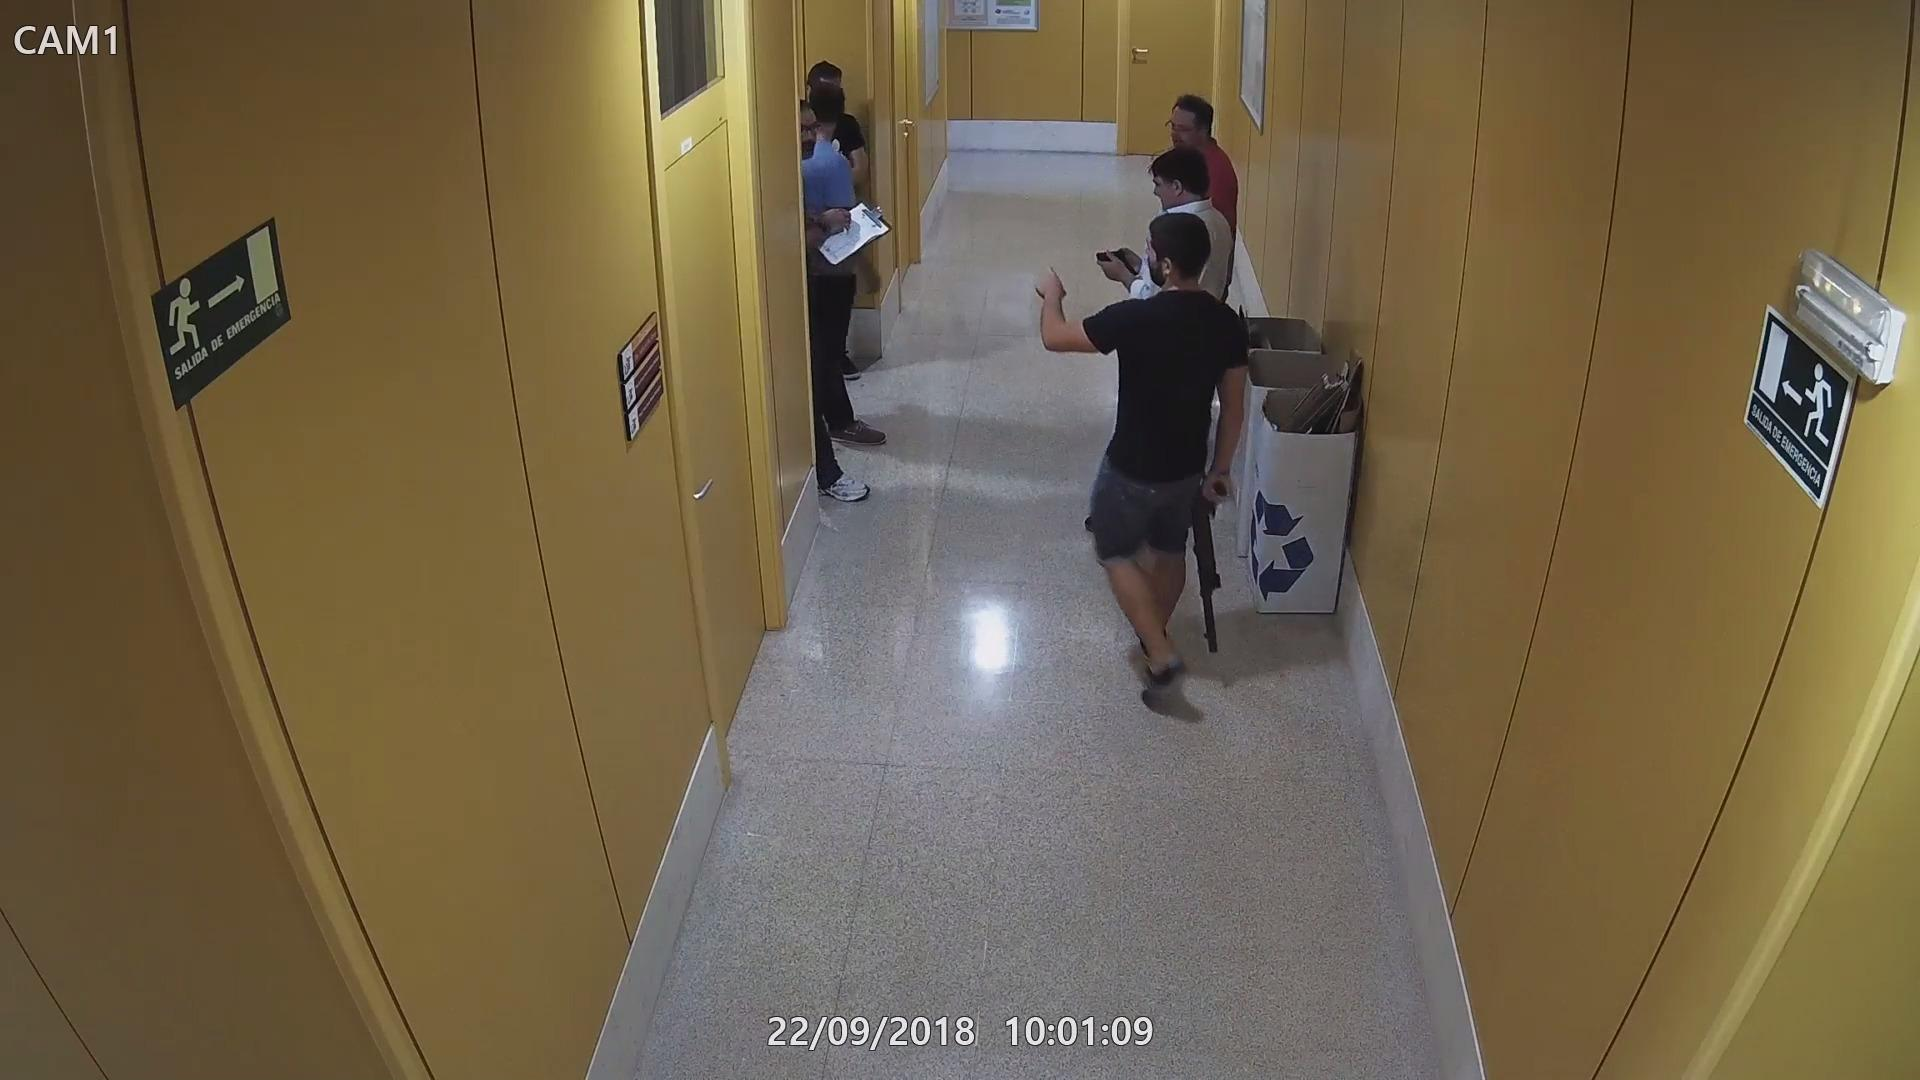Handgun: (1089, 249, 1141, 280)
